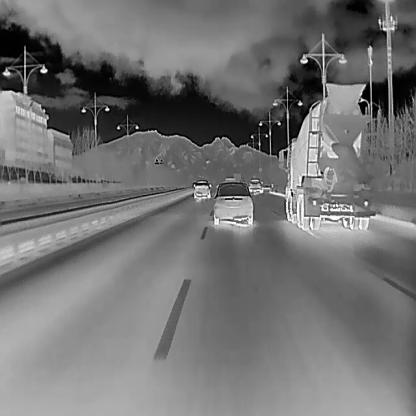car: (278, 82, 375, 230), (212, 180, 253, 225), (192, 178, 211, 198), (248, 177, 263, 193)
